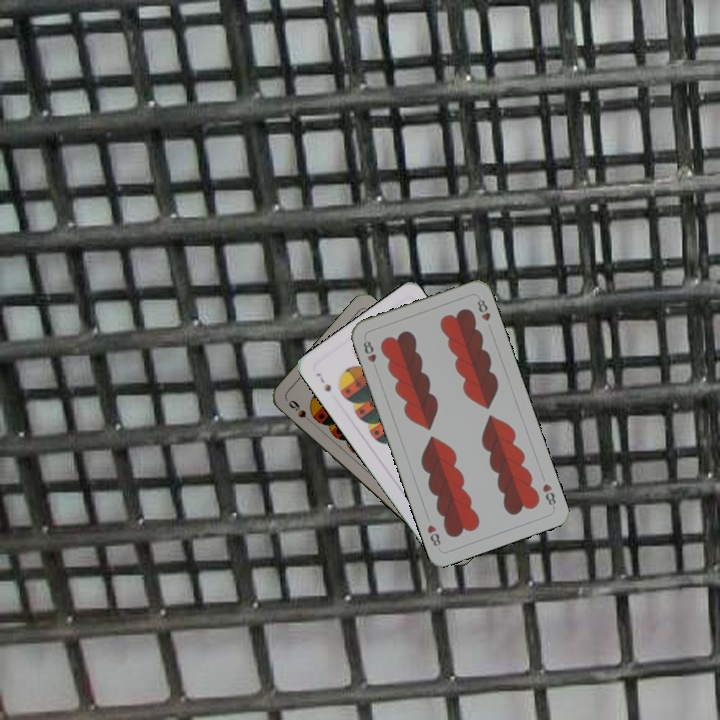H8: (538, 479, 559, 511), (359, 337, 379, 365)
S7: (312, 369, 334, 394)
S9: (284, 396, 316, 427)
